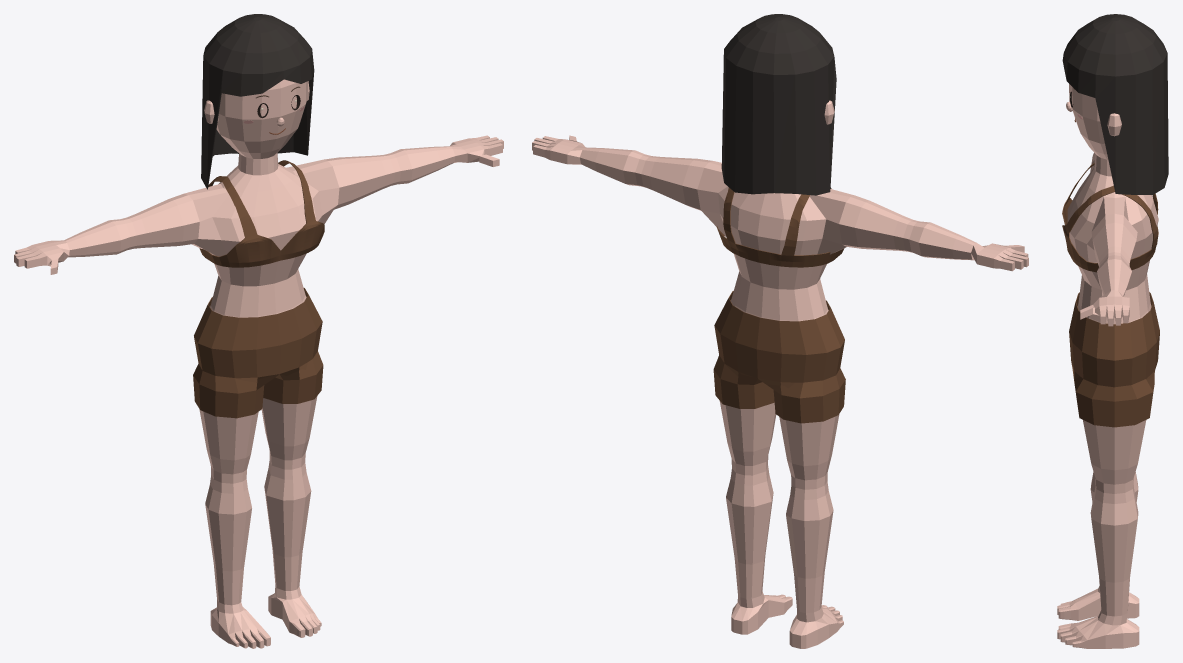
The model's file is kadın karakter.fbx.
3 renders of one model, left to right at view 1: azimuth 30°, elevation 25°; view 2: azimuth 150°, elevation 25°; view 3: azimuth 270°, elevation 25°, orthographic.
Visible parts, largest first — view 1: Kadın_Seviye_1_Gövdesi, Kadın_Seviye_1_Boxeri, Kadın_Seviye_1_Saçları, Kadın_Seviye_1_Sütyeni; view 2: Kadın_Seviye_1_Gövdesi, Kadın_Seviye_1_Saçları, Kadın_Seviye_1_Boxeri, Kadın_Seviye_1_Sütyeni; view 3: Kadın_Seviye_1_Gövdesi, Kadın_Seviye_1_Saçları, Kadın_Seviye_1_Boxeri, Kadın_Seviye_1_Sütyeni, Kadın_Seviye_1_Kulak.Sol.
Boxes of the visible parts, x1,y1,x2,y2 form: Kadın_Seviye_1_Gövdesi: [14, 79, 503, 648]; Kadın_Seviye_1_Boxeri: [193, 288, 323, 418]; Kadın_Seviye_1_Saçları: [201, 14, 314, 189]; Kadın_Seviye_1_Sütyeni: [199, 160, 324, 267]; Kadın_Seviye_1_Gövdesi: [532, 135, 1028, 648]; Kadın_Seviye_1_Saçları: [721, 14, 836, 195]; Kadın_Seviye_1_Boxeri: [713, 291, 845, 423]; Kadın_Seviye_1_Sütyeni: [716, 187, 844, 267]; Kadın_Seviye_1_Gövdesi: [1057, 84, 1158, 648]; Kadın_Seviye_1_Saçları: [1062, 14, 1168, 194]; Kadın_Seviye_1_Boxeri: [1069, 292, 1159, 427]; Kadın_Seviye_1_Sütyeni: [1062, 162, 1158, 272]; Kadın_Seviye_1_Kulak.Sol: [1107, 113, 1121, 136].
Size of the model in its own units: 1.6 by 1.9 by 0.315.
